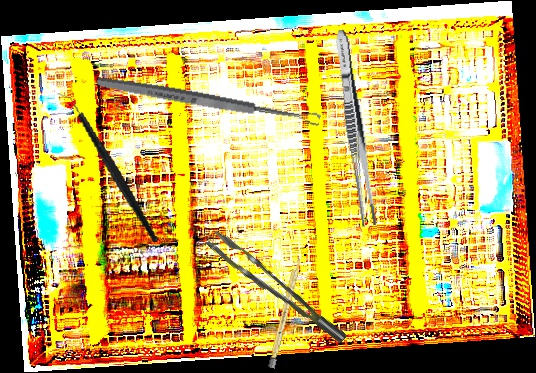Chopper: (55, 78, 160, 256)
Dressing Forceps: (330, 28, 381, 228)
Scalpel Handle: (267, 256, 303, 369)
Surgical Spoon: (95, 73, 322, 129)
Tissue Forceps: (204, 217, 348, 361)
